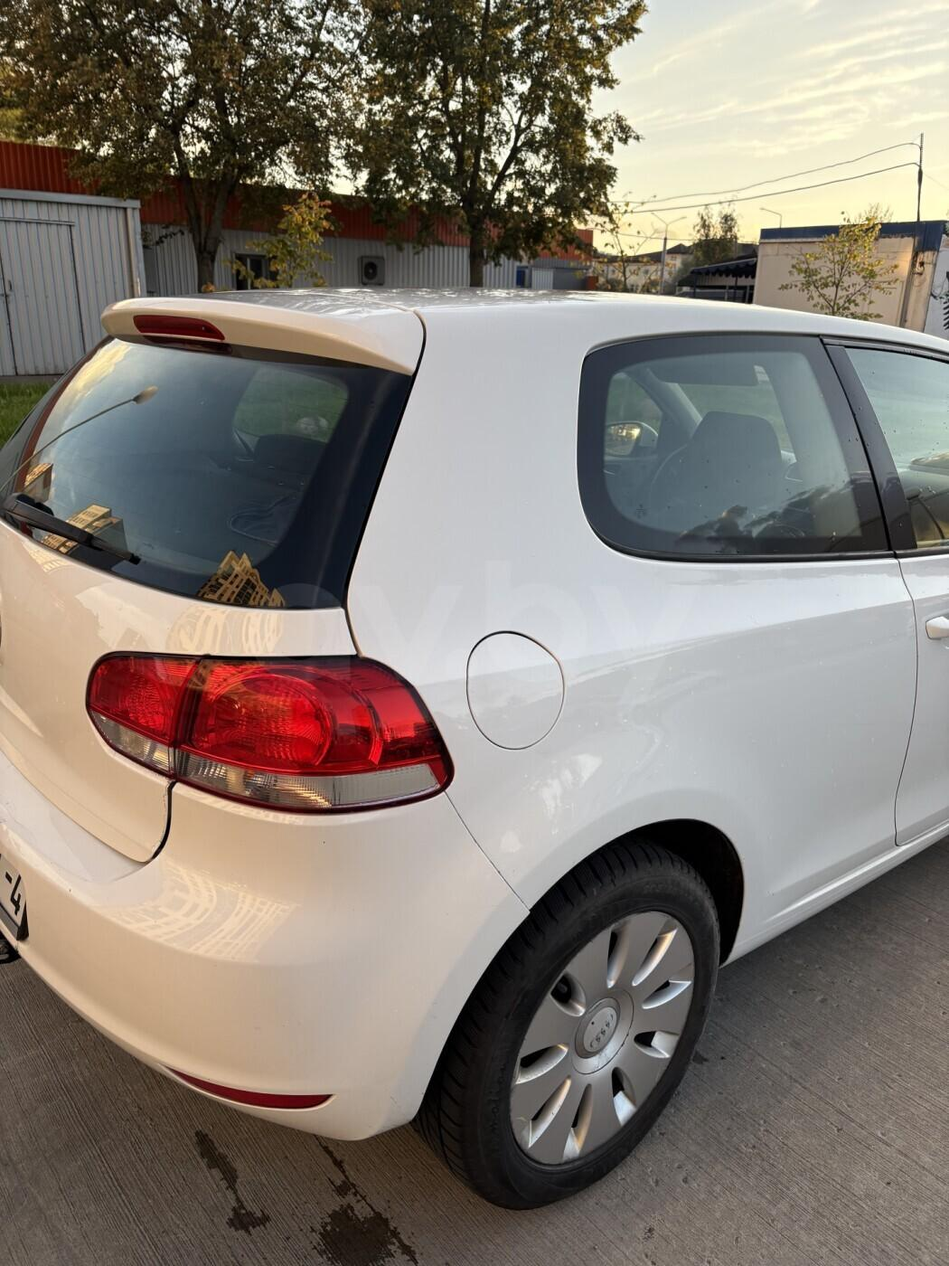Golf_2008-2013: (0, 274, 949, 1179)
